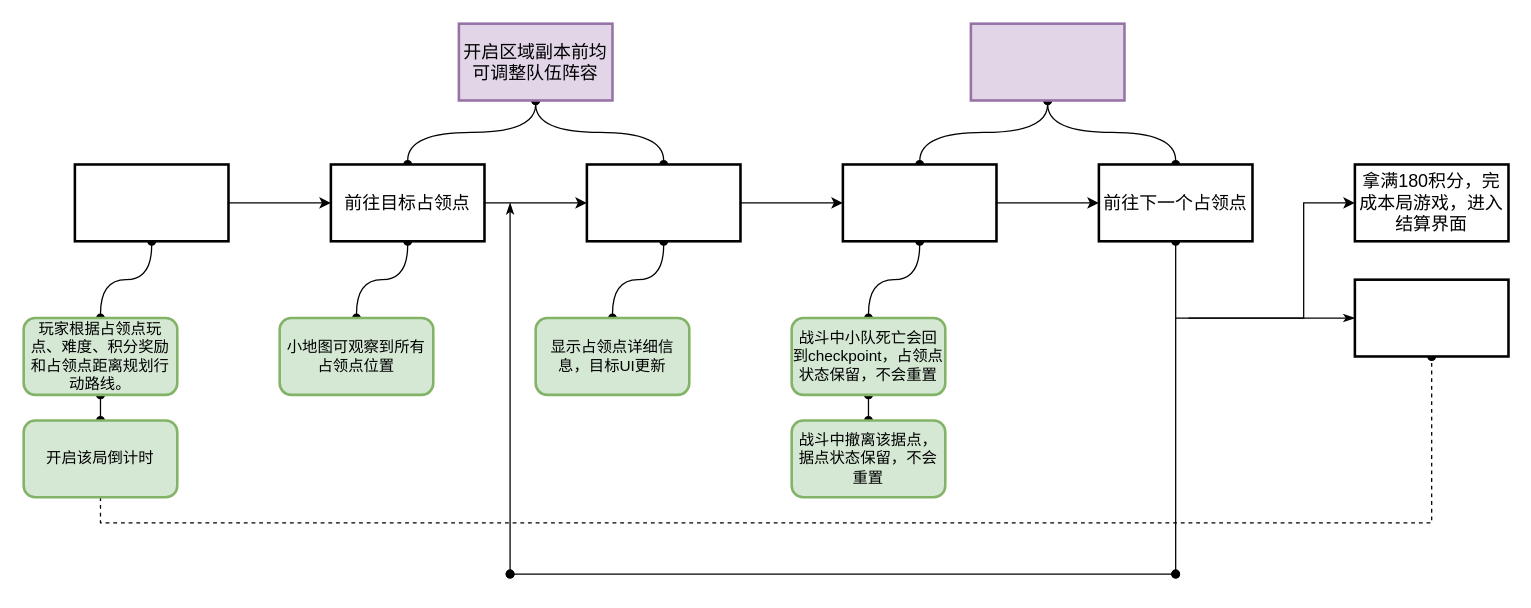
Image size: 1531x608. Some labels were removed from this diagram. The shapes that lost their labels are listed below. From the top down, each one's centre as x and y in pixels, then its label:
At [1047,61]: "地图中有若干补给点，可适当恢复战损（血量）".
At [151,202]: "玩家出生".
At [663,202]: "进入占领点区域（无缝），开启占领点区域副本".
At [919,202]: "完成占领点挑战".
At [1431,317]: "倒计时结束，进入结算界面".
